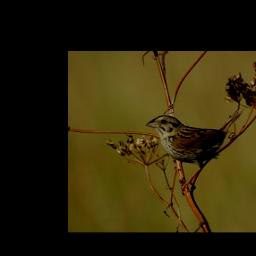Sparrow: (144, 106, 247, 196)
